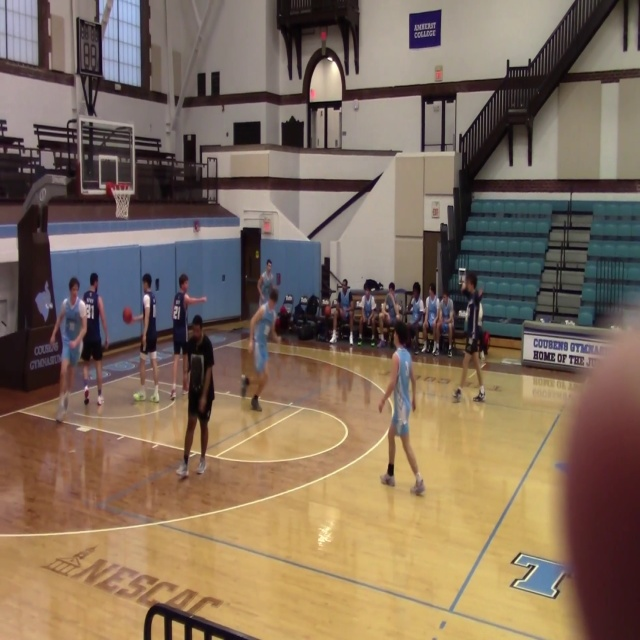Basketball: (122, 307, 132, 324), (133, 391, 145, 401)
